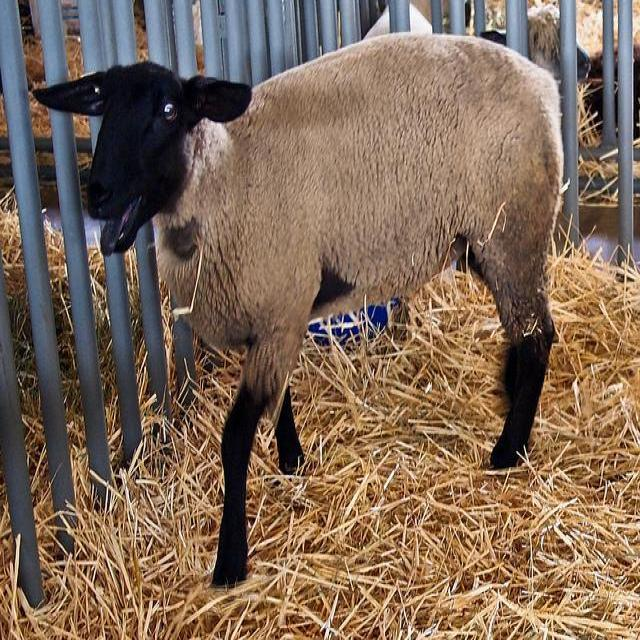Sheep: (27, 31, 564, 542), (528, 4, 592, 86)
